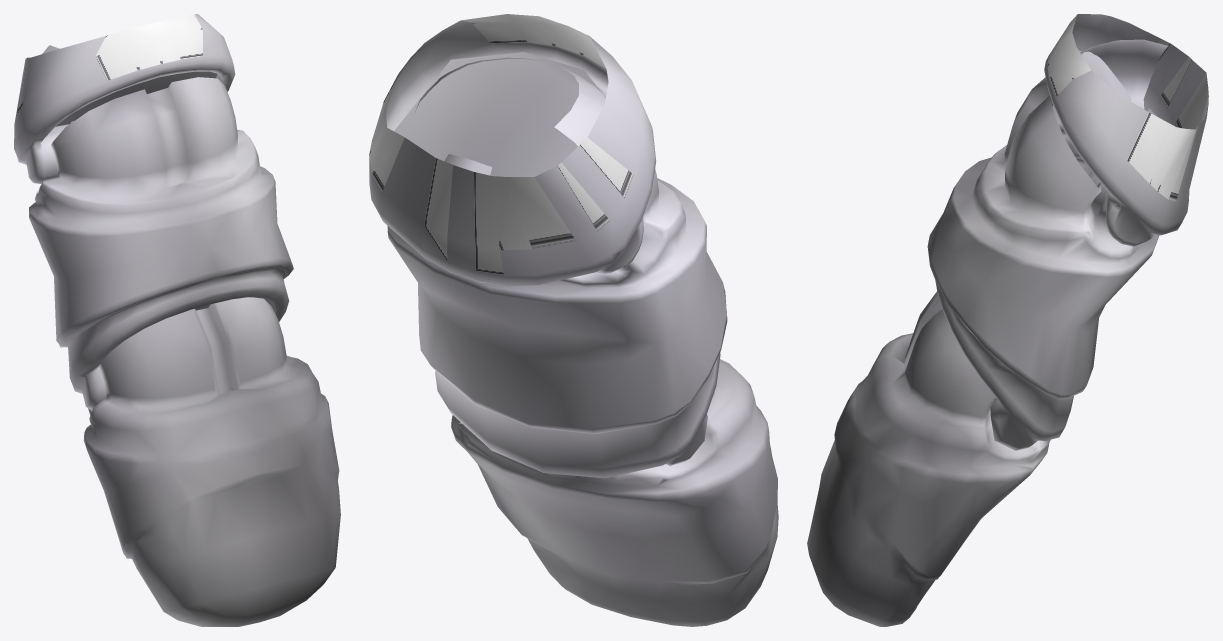
File: doigt1.obj
3 renders of one model, left to right at view 1: azimuth 30°, elevation 25°; view 2: azimuth 150°, elevation 25°; view 3: azimuth 270°, elevation 25°, orthographic. The views are drawn at different scales.
Parts seen in each view (by area): view 1: Doigt1_Chest.015; view 2: Doigt1_Chest.015; view 3: Doigt1_Chest.015.
Part boxes in pixels (left/top/right/bottom): Doigt1_Chest.015: left=14, top=14, right=340, bottom=626; Doigt1_Chest.015: left=369, top=14, right=778, bottom=626; Doigt1_Chest.015: left=807, top=14, right=1208, bottom=626.
Size of the model in its own units: 0.1623 by 0.3685 by 0.2331.
